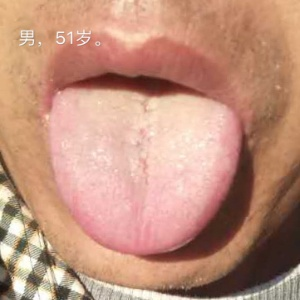st: (55, 91, 247, 257)
